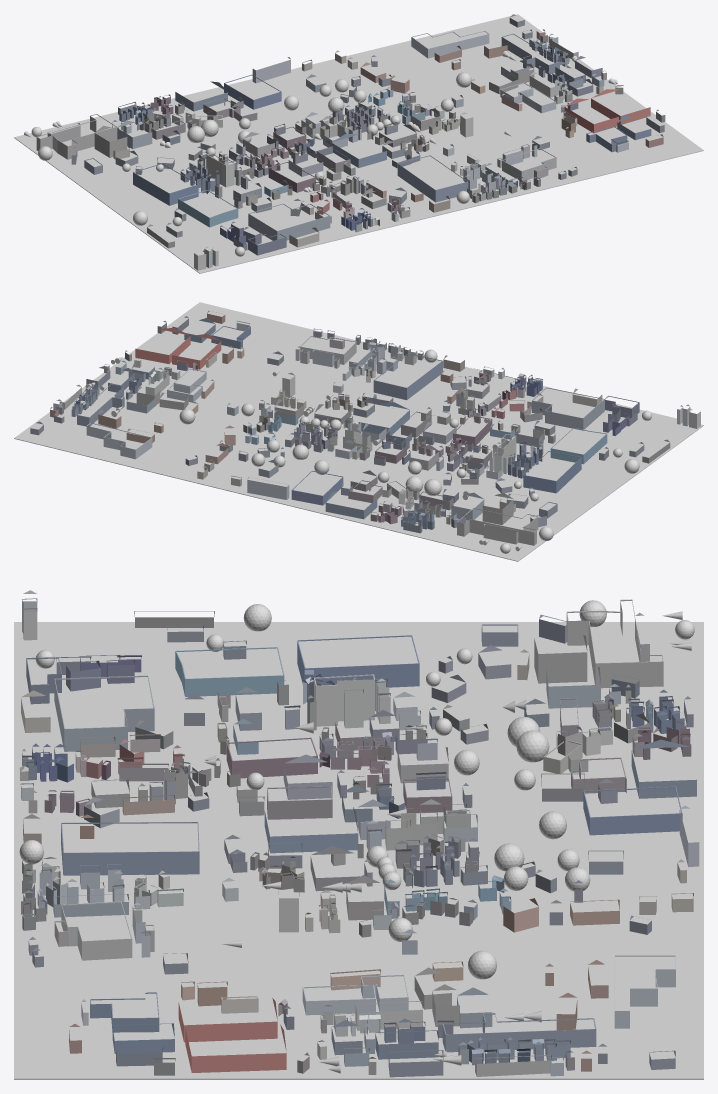
3 views of the same model, one above another, from view 1: azimuth 30°, elevation 25°; view 2: azimuth 150°, elevation 25°; view 3: azimuth 270°, elevation 25° (orthographic). The views are drawn at different scales.
Visible parts, largest first — view 1: Ground_Base, BLD-005, BLD-003, BLD-001, BLD-002, BLD-010, BLD-008, BLD-007, BLD-014, BLD-032, BLD-013, BLD-004 (+9 smaller); view 2: Ground_Base, BLD-003, BLD-005, BLD-001, BLD-010, BLD-002, BLD-008, BLD-014, BLD-004, BLD-056, BLD-007, BLD-017 (+7 smaller); view 3: Ground_Base, BLD-001, BLD-014, BLD-005, BLD-003, BLD-002, BLD-008, BLD-032, BLD-007, BLD-004, BLD-006, BLD-011 (+28 smaller).
Boxes of the visible parts, bbox=[...] form: Ground_Base: bbox=[14, 14, 703, 273]; BLD-005: bbox=[36, 114, 117, 159]; BLD-003: bbox=[248, 203, 330, 240]; BLD-001: bbox=[397, 155, 468, 202]; BLD-002: bbox=[133, 163, 198, 205]; BLD-010: bbox=[411, 31, 489, 58]; BLD-008: bbox=[178, 190, 238, 227]; BLD-007: bbox=[224, 74, 281, 109]; BLD-014: bbox=[501, 33, 559, 74]; BLD-032: bbox=[206, 153, 234, 187]; BLD-013: bbox=[502, 148, 556, 180]; BLD-004: bbox=[591, 89, 650, 124]; Ground_Base: bbox=[14, 302, 703, 561]; BLD-003: bbox=[532, 387, 604, 430]; BLD-005: bbox=[457, 508, 538, 545]; BLD-001: bbox=[373, 353, 442, 400]; BLD-010: bbox=[86, 423, 152, 459]; BLD-002: bbox=[523, 451, 581, 493]; BLD-008: bbox=[550, 428, 607, 464]; BLD-014: bbox=[77, 384, 124, 426]; BLD-004: bbox=[135, 328, 190, 363]; BLD-056: bbox=[247, 477, 289, 499]; BLD-007: bbox=[291, 470, 343, 505]; BLD-017: bbox=[482, 493, 513, 524]; Ground_Base: bbox=[14, 622, 703, 1079]; BLD-001: bbox=[61, 822, 199, 875]; BLD-014: bbox=[442, 1013, 596, 1052]; BLD-005: bbox=[566, 599, 663, 688]; BLD-003: bbox=[54, 675, 154, 751]; BLD-002: bbox=[297, 635, 419, 687]; BLD-008: bbox=[175, 647, 284, 696]; BLD-032: bbox=[314, 674, 374, 726]; BLD-007: bbox=[583, 786, 682, 835]; BLD-004: bbox=[185, 1024, 286, 1072]; BLD-006: bbox=[178, 998, 277, 1042]; BLD-011: bbox=[226, 737, 317, 778].
Bounding box in the file's own units: 342 × 16.31 × 216.
